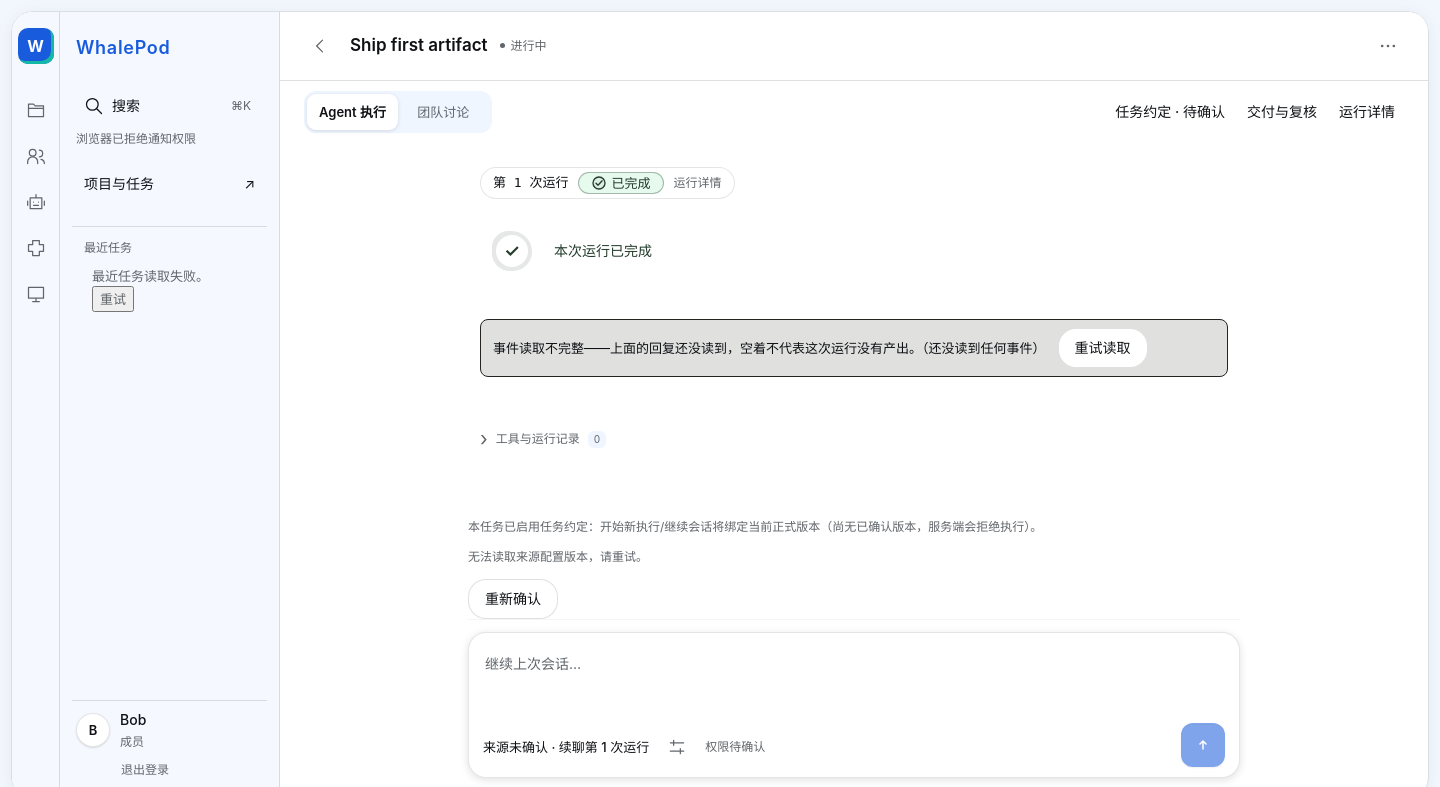
Test: #379 交接草稿面板 › ready 草稿：编辑文本与引用、保存携带并发令牌、发布后显示不可变
The image size is (1440, 787).
Step 1. Click the button "第 1 次运行 已完成 运行详情" → (607, 183), box [480,167,734,199]
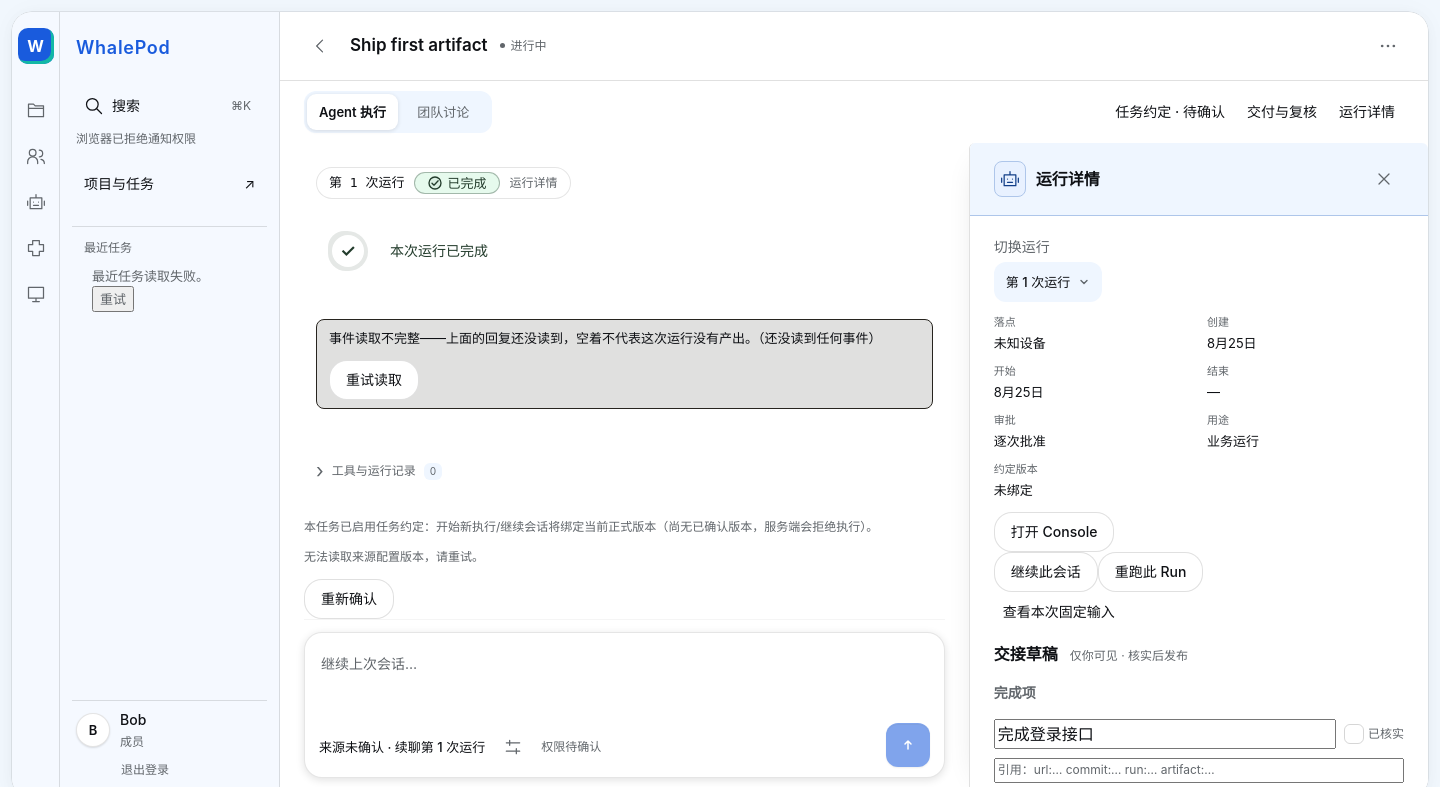
Expected: the element with test id "handoff-draft" shows "仅你可见", [1070,648,1188,663]
Expected: the field named "完成项第 1 条" holds "完成登录接口"
Step 2. Replace the text in the field named "完成项第 1 条" with "完成登录与注册" → (1165, 734), box [994,718,1336,749]
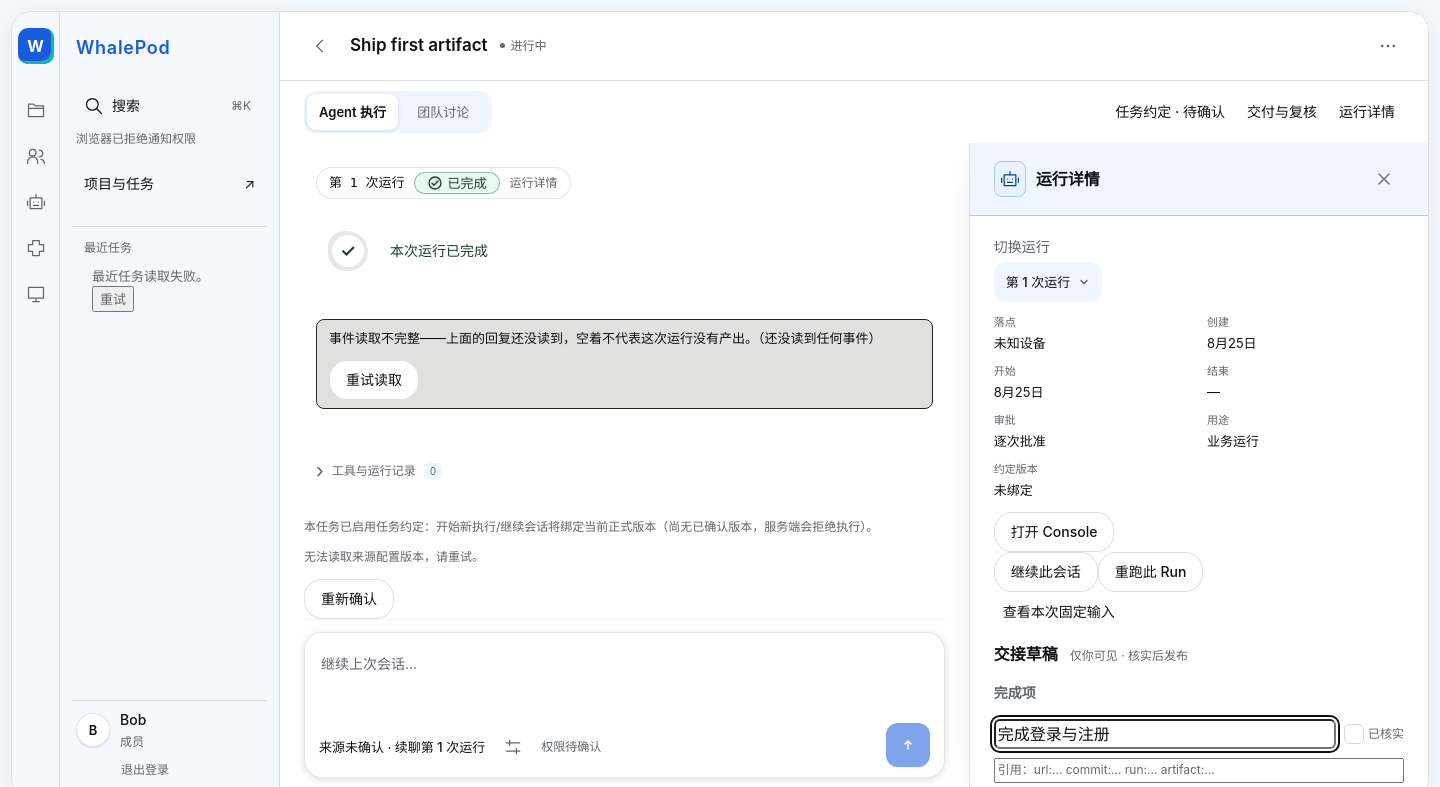
Step 3. Click the checkbox named "已核实第 1 条" → (1374, 734), box [1344,724,1404,744]
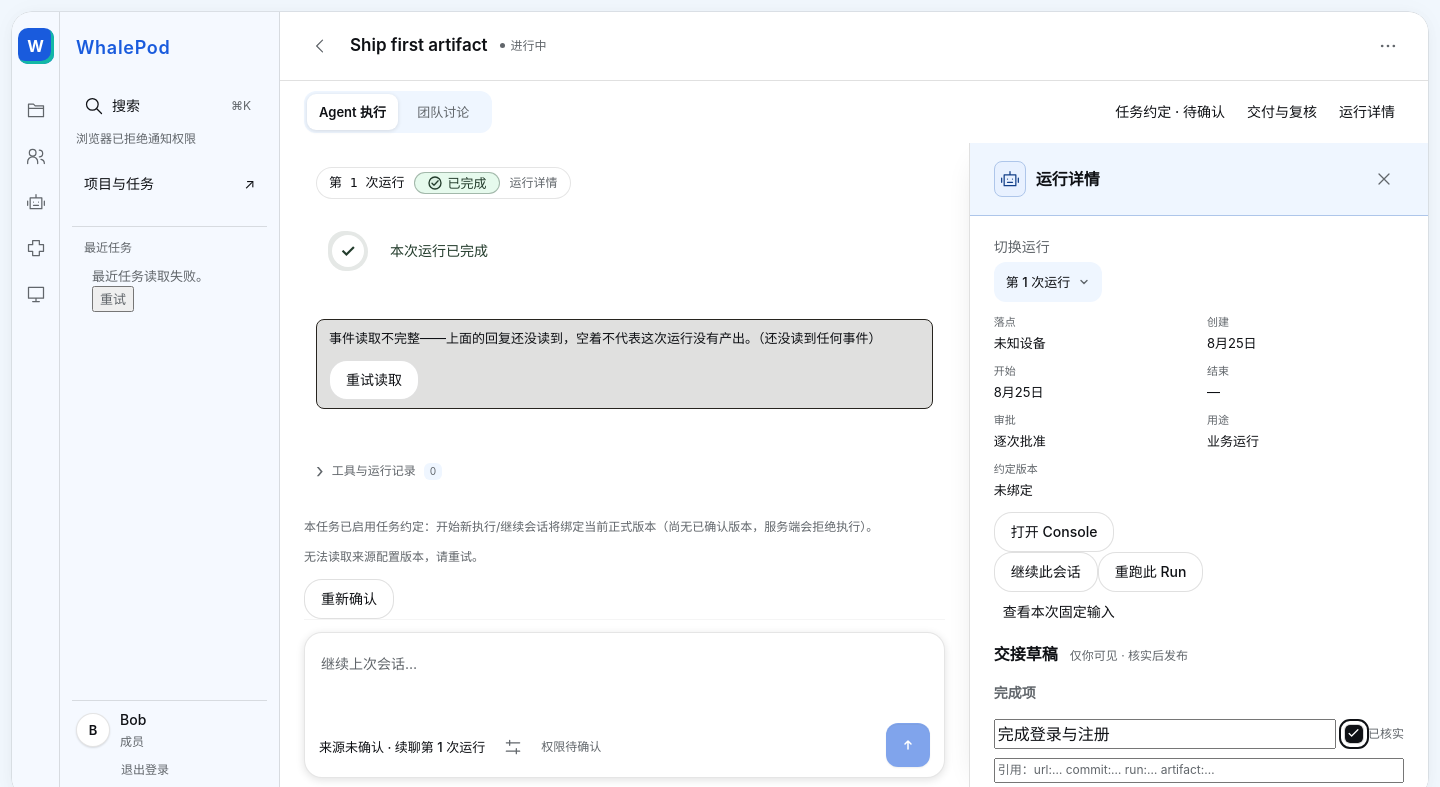
Step 4. Type "commit:abc1234 url:https://example.dev/pr/1" into the field named "引用第 1 条" → (1199, 770), box [994,758,1404,782]
(page scrolled)
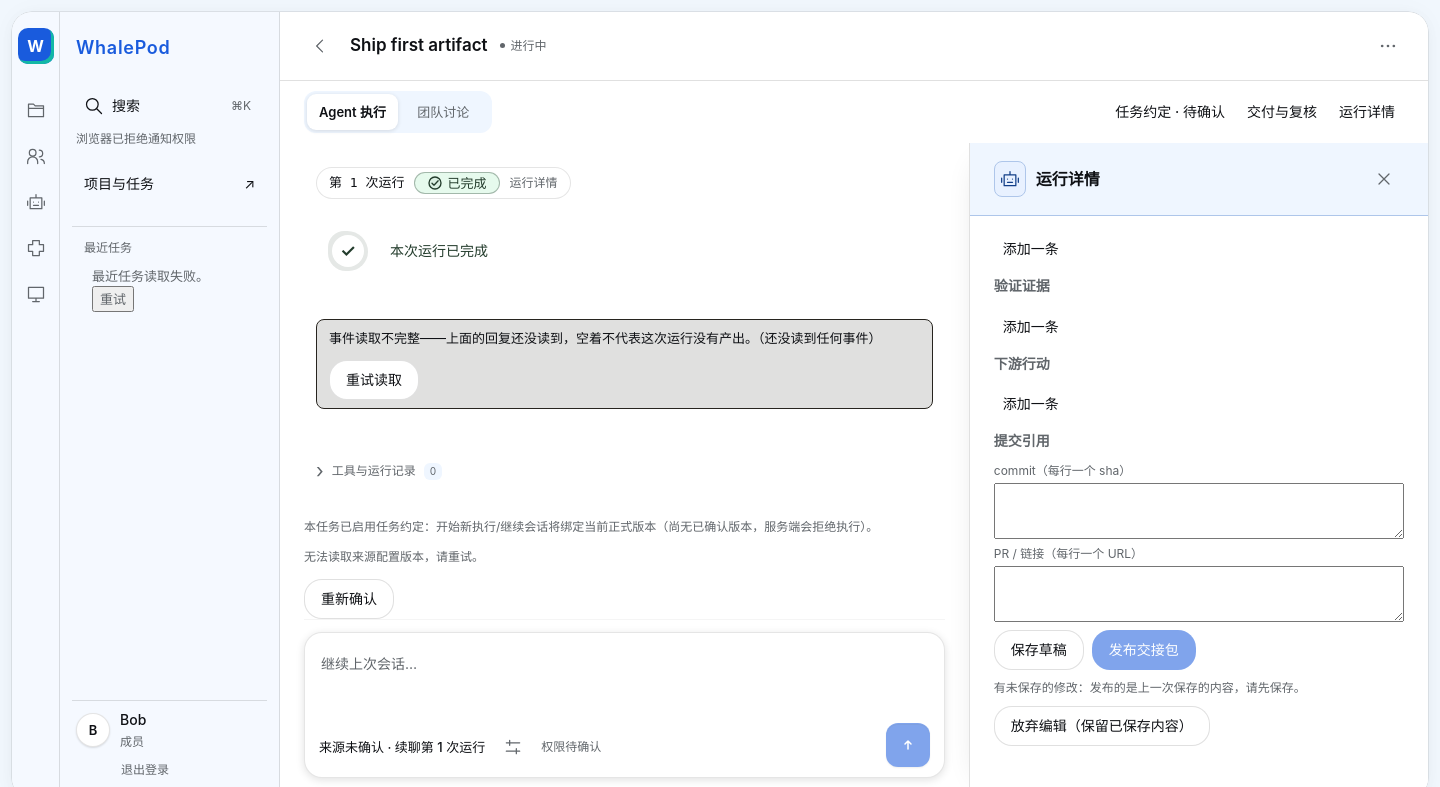
Step 5. Click the button "保存草稿" → (1039, 650), box [994,630,1084,670]
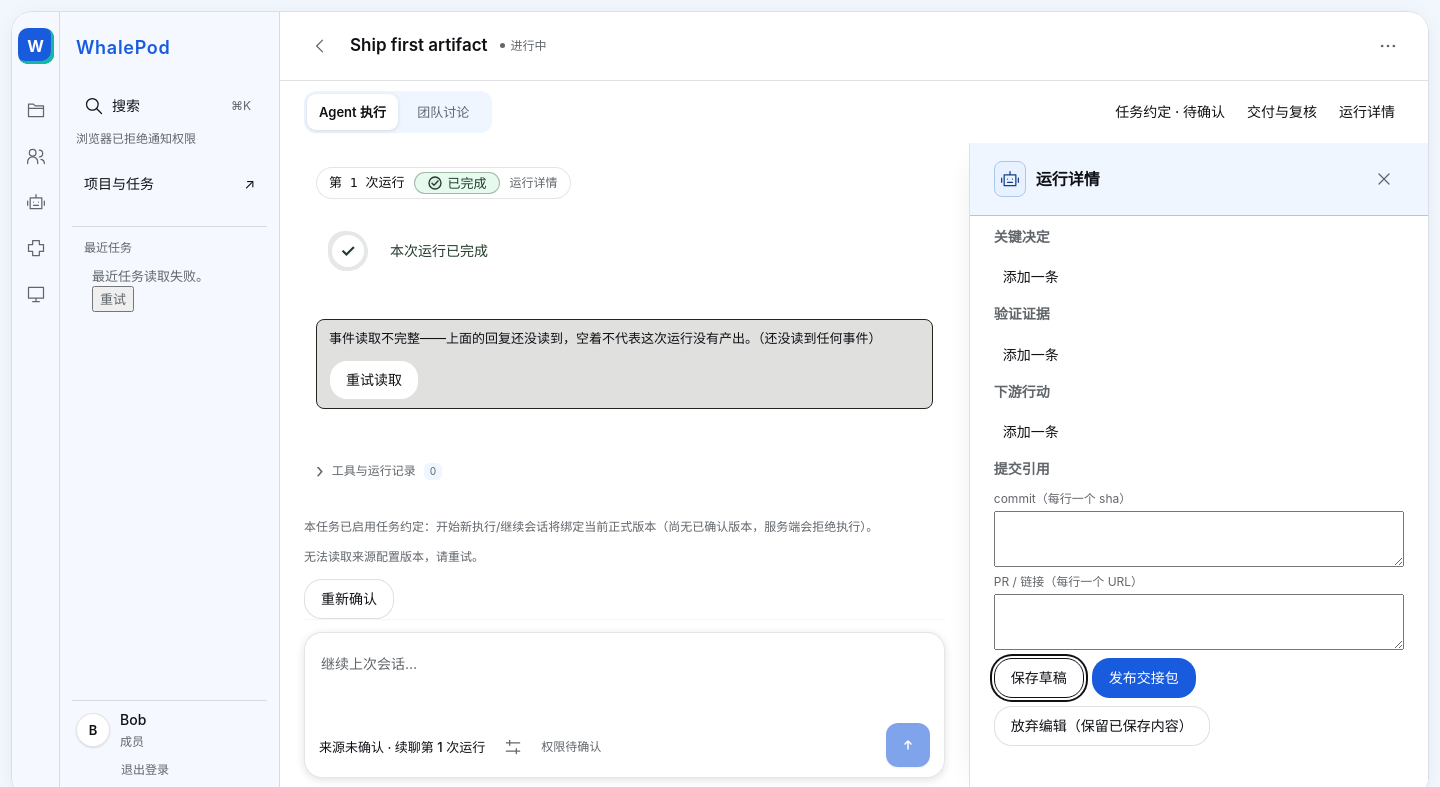
Step 6. Click the button "发布交接包" → (1144, 678), box [1092,658,1196,698]
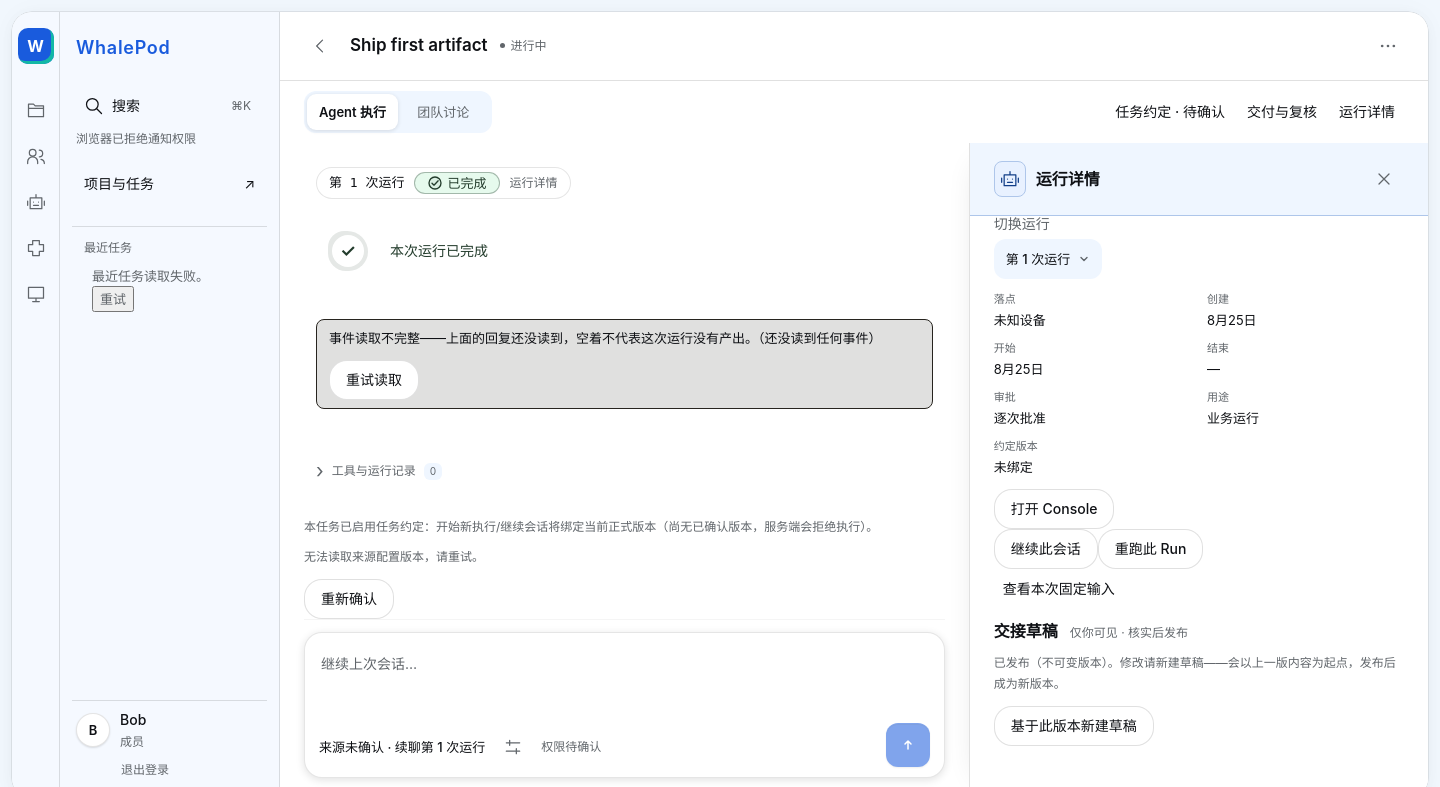
Expected: the text with test id "handoff-draft-published" shows "不可变版本", [994,655,1396,691]
Expected: the button "基于此版本新建草稿" is shown, [994,706,1154,746]
